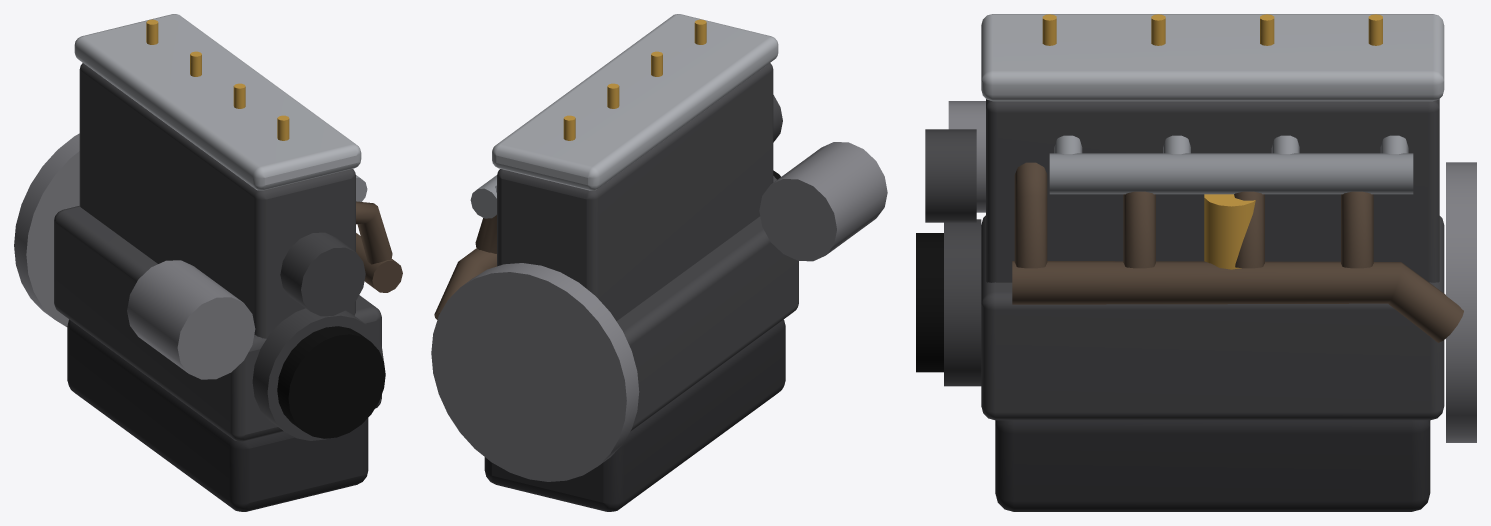
File: runabout_i4_2l9_sv.glb
3 renders of one model, left to right at view 1: azimuth 30°, elevation 25°; view 2: azimuth 150°, elevation 25°; view 3: azimuth 270°, elevation 25°, orthographic. The views are drawn at different scales.
Parts seen in each view (by area): view 1: runabout_i4_2l9_sv; view 2: runabout_i4_2l9_sv; view 3: runabout_i4_2l9_sv.
Part boxes in pixels (x1,y1,x2,y2): runabout_i4_2l9_sv: (14, 14, 402, 511); runabout_i4_2l9_sv: (431, 14, 887, 511); runabout_i4_2l9_sv: (916, 14, 1476, 511).
Bounding box in the file's own units: 0.387 × 0.5435 × 0.6017.
